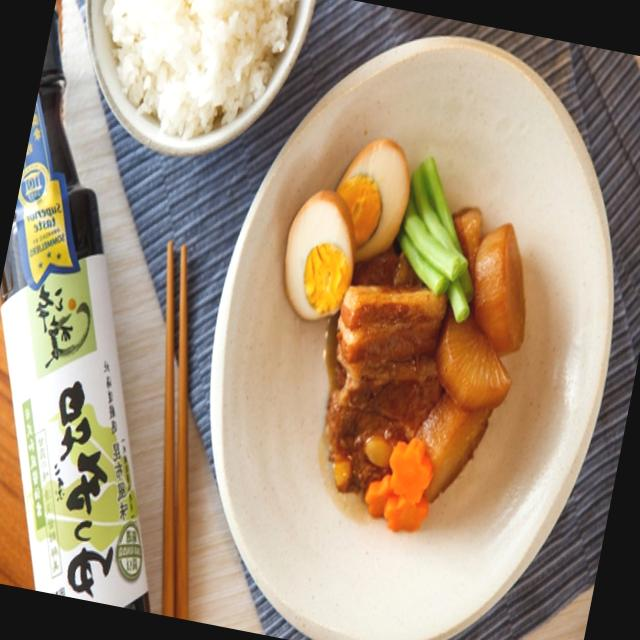ca rot: (474, 224, 526, 354)
com: (105, 0, 299, 140)
kho trung: (285, 139, 511, 501)
